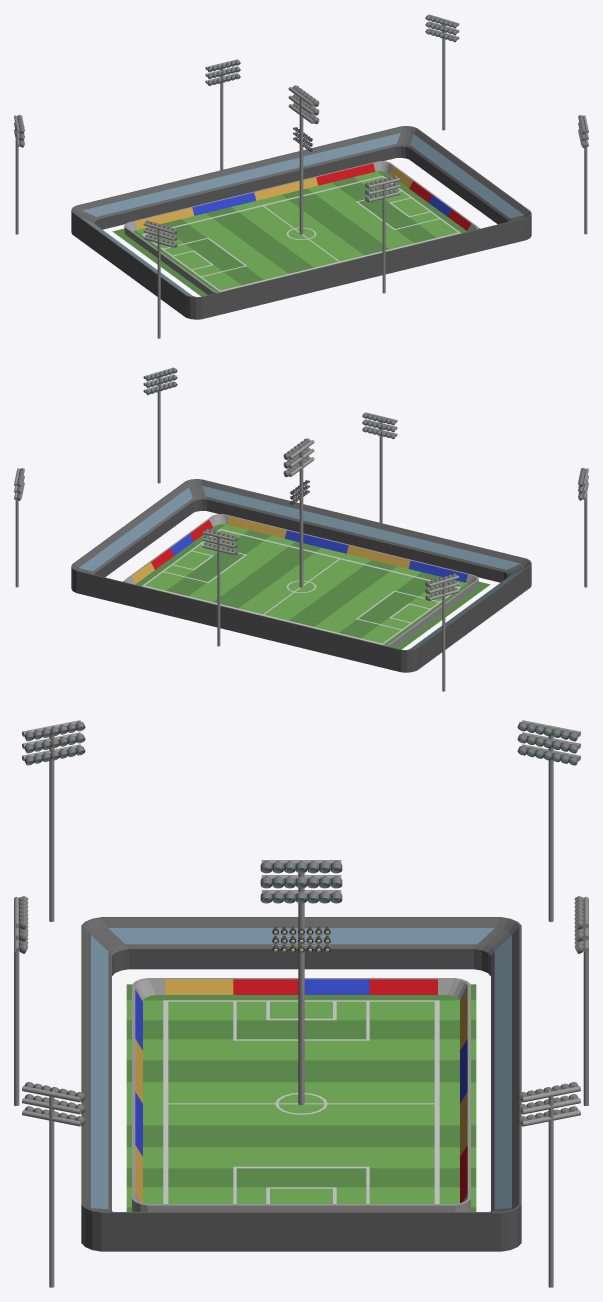
Rendered from Soccerfield just Field.fbx.
The picture shows the model from 3 angles, top to bottom: view 1: azimuth 30°, elevation 25°; view 2: azimuth 150°, elevation 25°; view 3: azimuth 270°, elevation 25°; orthographic projection. The views are drawn at different scales.
Visible parts, largest first — view 1: Cylinder.001, Plane, Cylinder, Cylinder.004, Cylinder.005, Cylinder.003; view 2: Cylinder.001, Plane, Cylinder, Cylinder.004, Cylinder.005, Cylinder.003; view 3: Plane, Cylinder.001, Cylinder, Cylinder.004, Cylinder.003, Cylinder.005, Cylinder.002.
Part boxes in pixels (x1,y1,x2,y2): Cylinder.001: [71, 126, 531, 319]; Plane: [112, 171, 479, 296]; Cylinder: [124, 161, 478, 294]; Cylinder.004: [14, 14, 588, 338]; Cylinder.005: [205, 59, 400, 293]; Cylinder.003: [288, 85, 319, 234]; Cylinder.001: [71, 479, 531, 672]; Plane: [123, 524, 490, 649]; Cylinder: [124, 514, 478, 647]; Cylinder.004: [14, 367, 588, 691]; Cylinder.005: [202, 412, 397, 646]; Cylinder.003: [283, 438, 314, 587]; Plane: [126, 984, 476, 1211]; Cylinder.001: [81, 917, 521, 1251]; Cylinder: [132, 978, 470, 1211]; Cylinder.004: [22, 720, 580, 1287]; Cylinder.003: [260, 860, 342, 1105]; Cylinder.005: [14, 896, 588, 1105]; Cylinder.002: [272, 926, 330, 952].
Size of the model in its own units: 5390 by 1630 by 3455.
